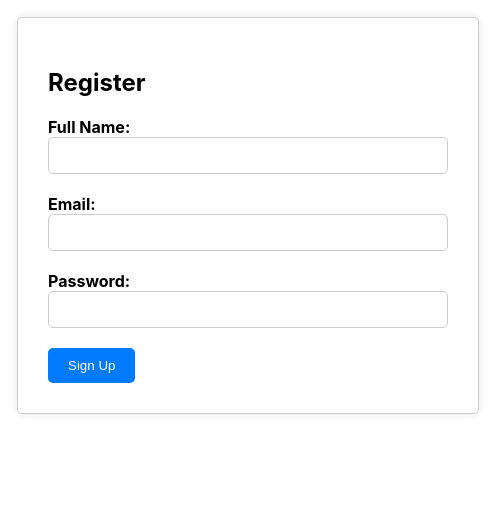
Test: Register page spec › should display error on empty form
What coordinates should you click on to do the following:
click the button with test id "submit"
I would click on:
 (92, 366)
Its box is [48, 348, 135, 383].
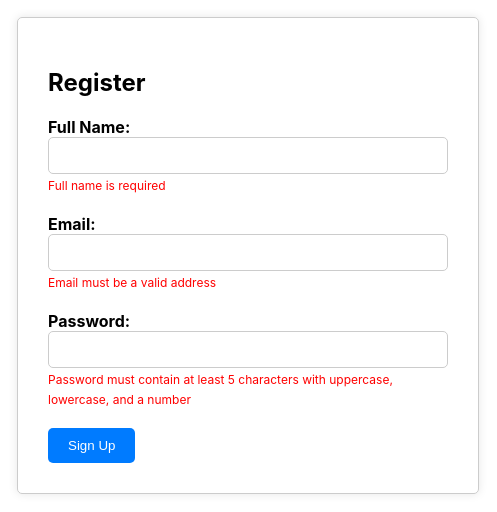
Check: the text "Email must be a valid address" is shown, box [48, 275, 216, 290]
Check: the text with test id "cy-error-password" is shown, box [48, 372, 393, 407]
Check: the text "Full name is required" is shown, box [48, 178, 166, 193]
